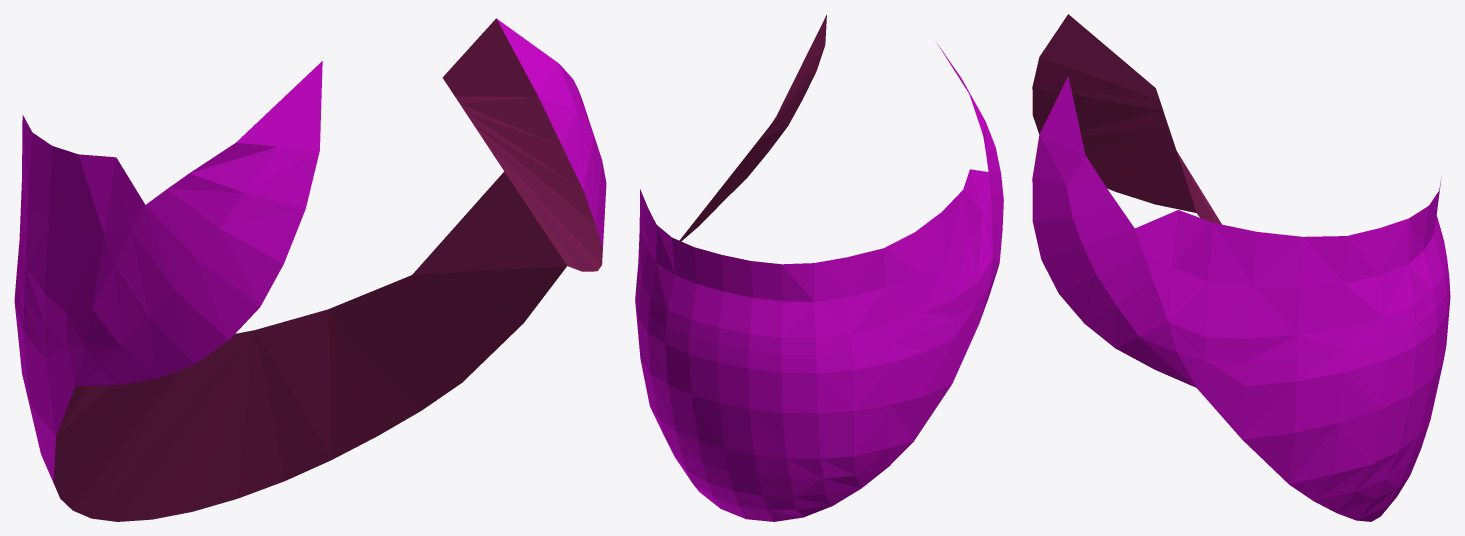
The picture shows the model from 3 angles, left to right: view 1: azimuth 30°, elevation 25°; view 2: azimuth 150°, elevation 25°; view 3: azimuth 270°, elevation 25°; orthographic projection. The views are drawn at different scales.
Parts seen in each view (by area): view 1: shape; view 2: shape; view 3: shape.
Part boxes in pixels (left/top/right/bottom): shape: left=14, top=18, right=606, bottom=521; shape: left=635, top=14, right=1003, bottom=521; shape: left=1032, top=14, right=1450, bottom=521.
Bounding box in the file's own units: 58.31 × 70.54 × 58.15.
